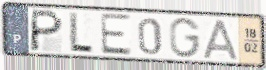0: (136, 16, 165, 55)
A: (202, 18, 240, 62)
E: (98, 12, 134, 57)
G: (167, 17, 202, 60)
L: (67, 10, 95, 54)
P: (28, 8, 65, 54)
